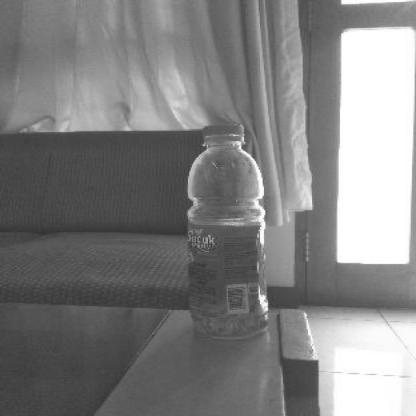plastic_bottles: (181, 120, 275, 344)
